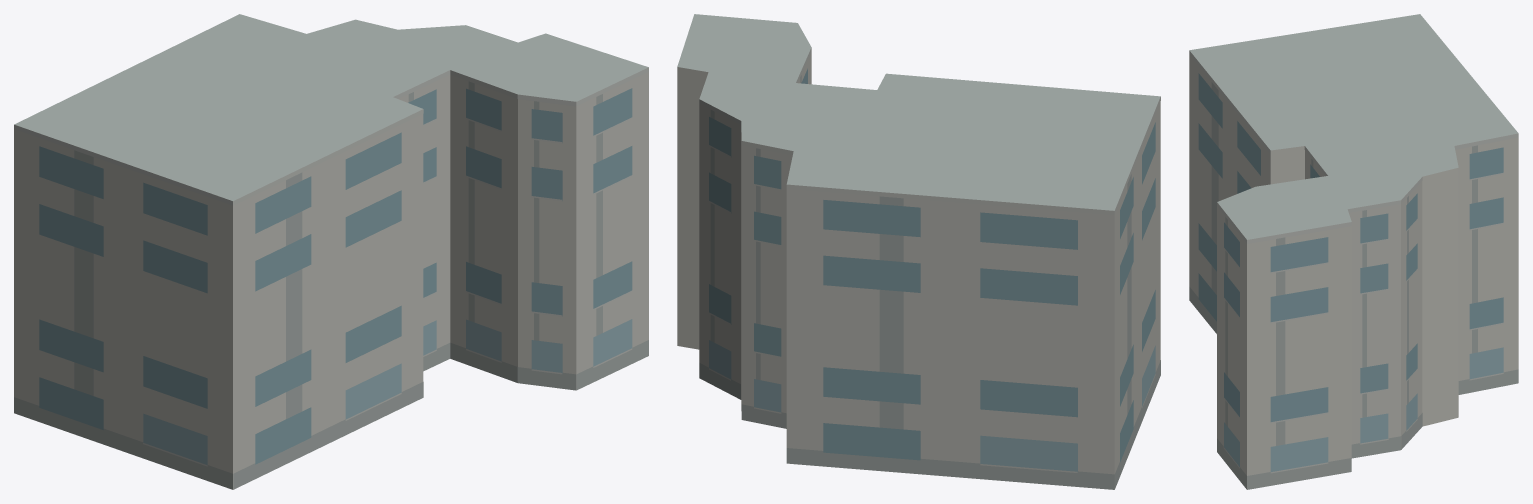
File: residential-3c243524-ee96-4928-90d4-587c1837ee70.glb
The picture shows the model from 3 angles, left to right: view 1: azimuth 30°, elevation 25°; view 2: azimuth 150°, elevation 25°; view 3: azimuth 270°, elevation 25°; orthographic projection. The views are drawn at different scales.
Parts seen in each view (by area): view 1: residential-3c243524-ee96-4928-90d4-587c1837ee70.tmp; view 2: residential-3c243524-ee96-4928-90d4-587c1837ee70.tmp; view 3: residential-3c243524-ee96-4928-90d4-587c1837ee70.tmp.
Boxes of the visible parts, x1,y1,x2,y2 form: residential-3c243524-ee96-4928-90d4-587c1837ee70.tmp: (14,14,648,489); residential-3c243524-ee96-4928-90d4-587c1837ee70.tmp: (677,14,1160,489); residential-3c243524-ee96-4928-90d4-587c1837ee70.tmp: (1189,14,1518,489).
Bounding box in the file's own units: 29.58 × 15.25 × 18.22.
